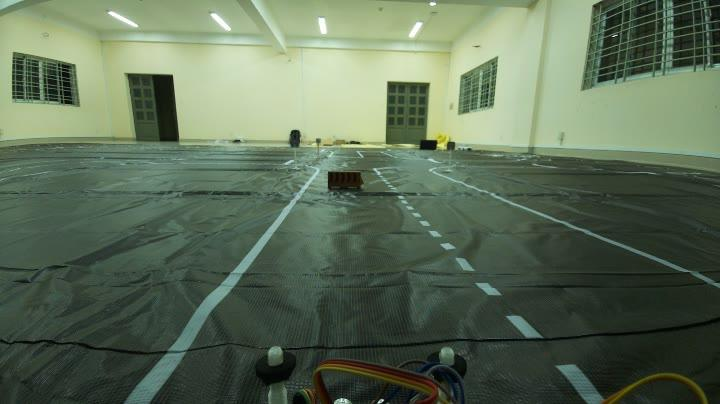roadblock: (324, 168, 370, 198)
